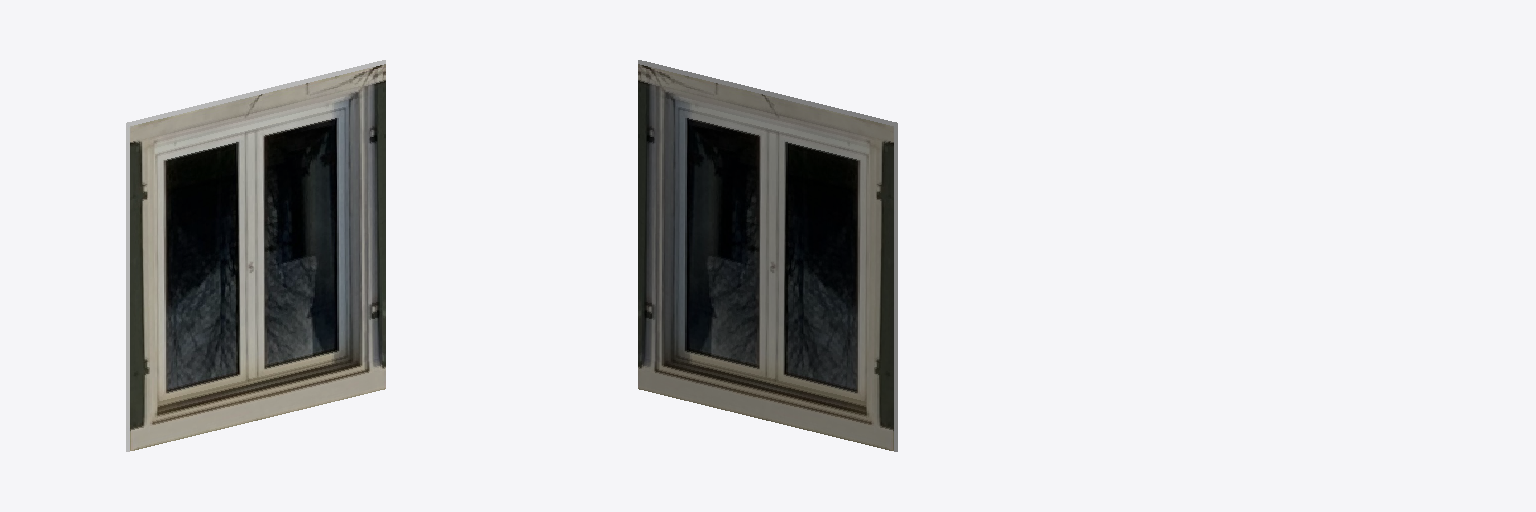
The picture shows the model from 3 angles: view 1: azimuth 30°, elevation 25°; view 2: azimuth 150°, elevation 25°; view 3: azimuth 270°, elevation 25°; orthographic projection.
Bounding box in the file's own units: 259 × 315 × 0.
1 materials, 1 textured.